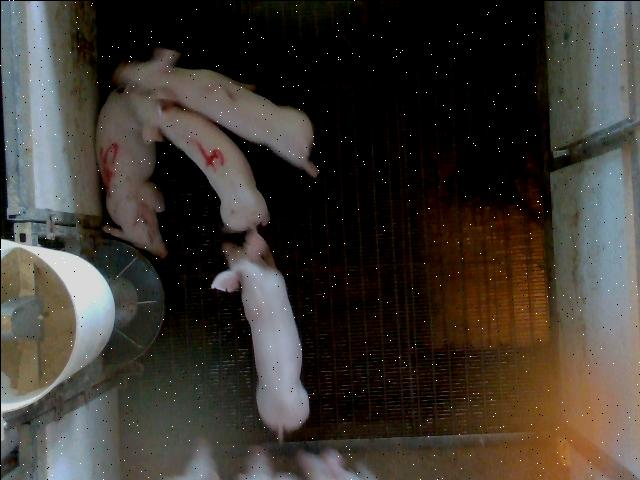pig-2: (110, 46, 318, 176)
pig-4: (131, 92, 269, 230)
pig-5: (95, 90, 166, 256)
